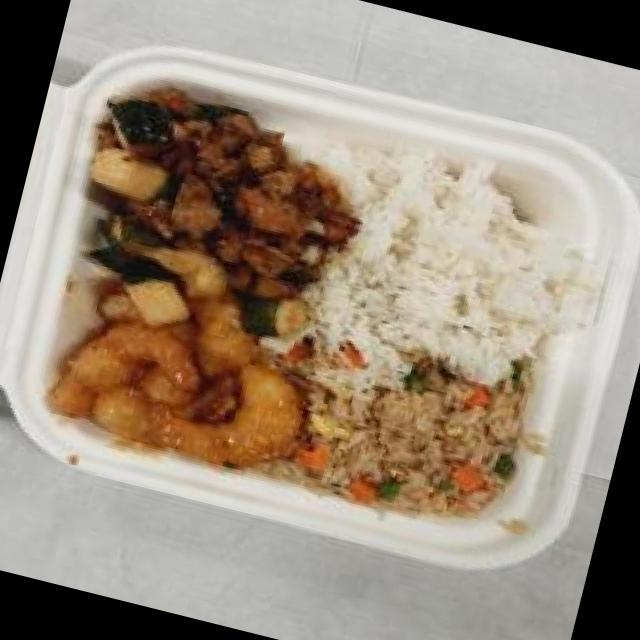Fried Rice: (282, 322, 556, 552)
Honey Walnut Shrimp: (34, 252, 332, 497)
Kung Pao Chicken: (62, 70, 366, 312)
White Steamed Rice: (318, 138, 606, 387)
